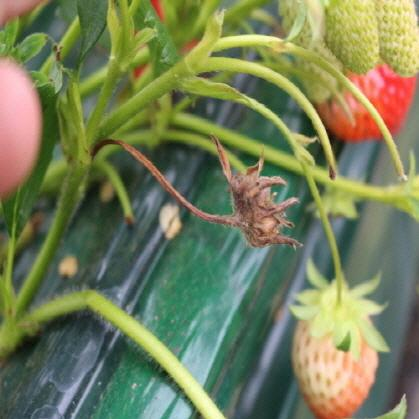Gray Mold: (183, 134, 304, 249)
